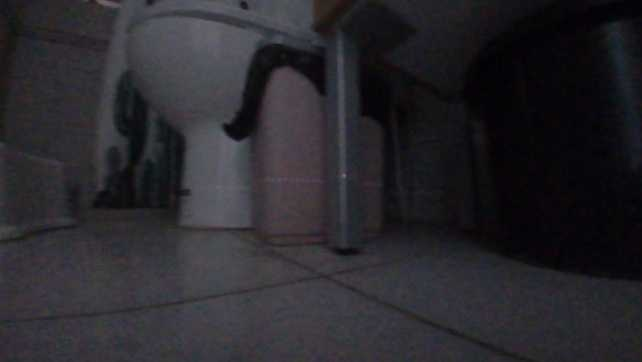toilet: (125, 0, 317, 227)
trash_can: (251, 34, 383, 245)
